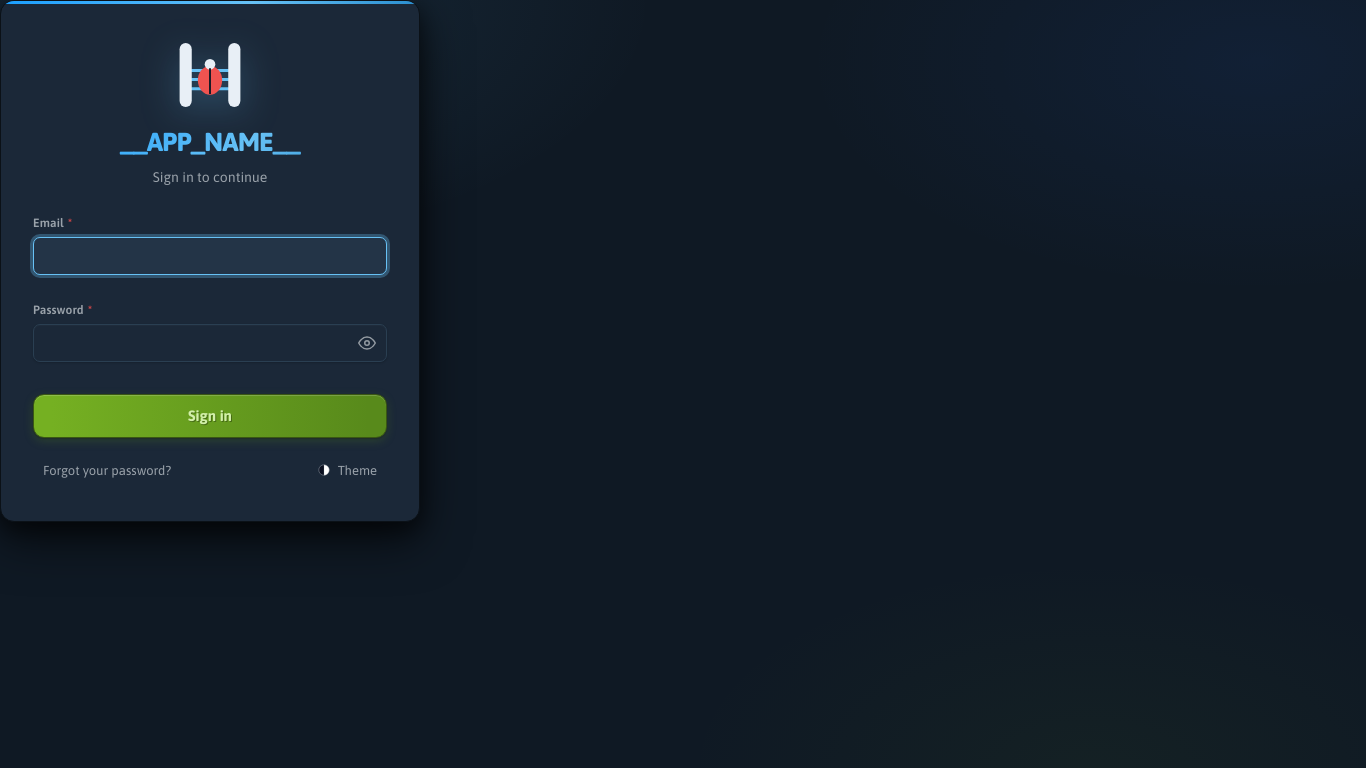
Scenario: sign in › a 401 response shows its message
Type "a@b.co" into the field labelled "Email *". click: (210, 256)
box: [33,237,387,275]
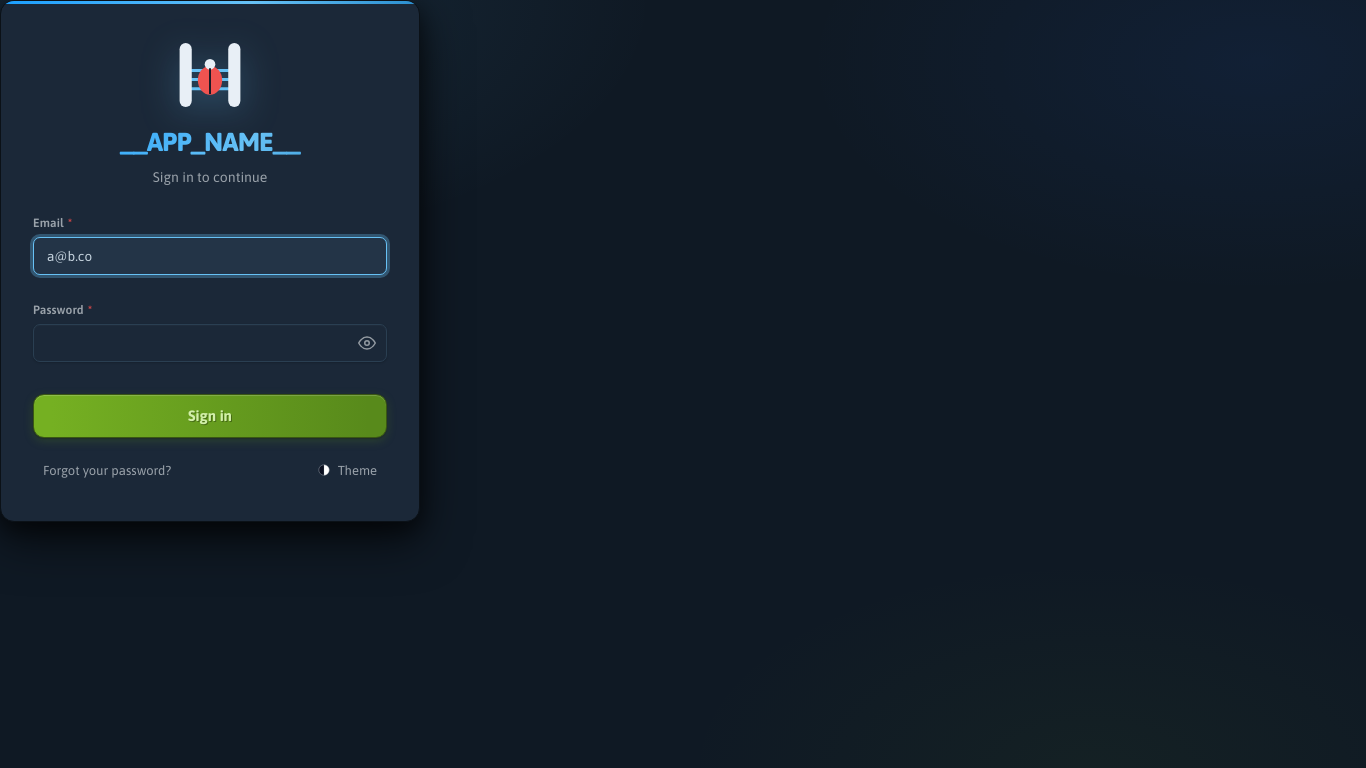
Click the button "Sign in". click: (210, 416)
box: [33,394,387,438]
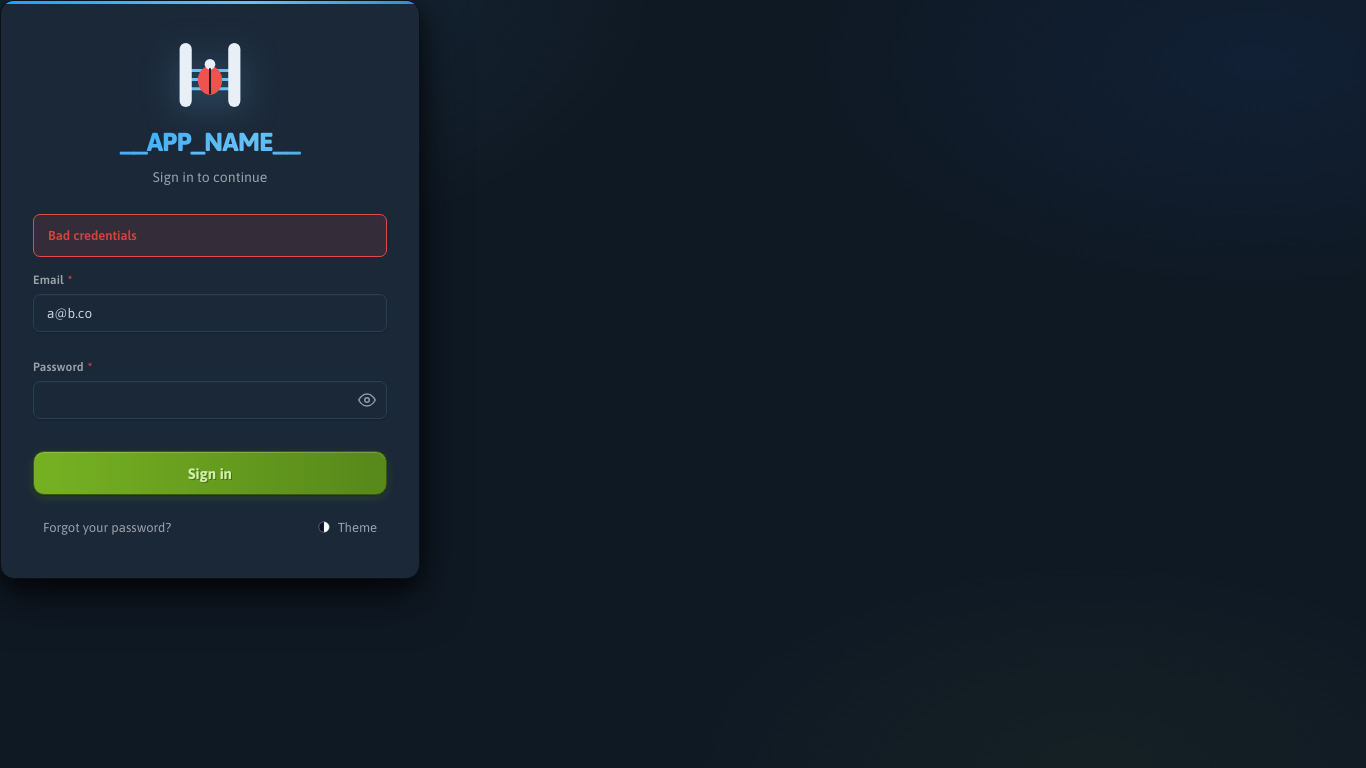
expect the button "Sign in" is enabled: met, box [33,451,387,495]
expect the text "Bad credentials" is shown: met, box [33,214,387,257]
